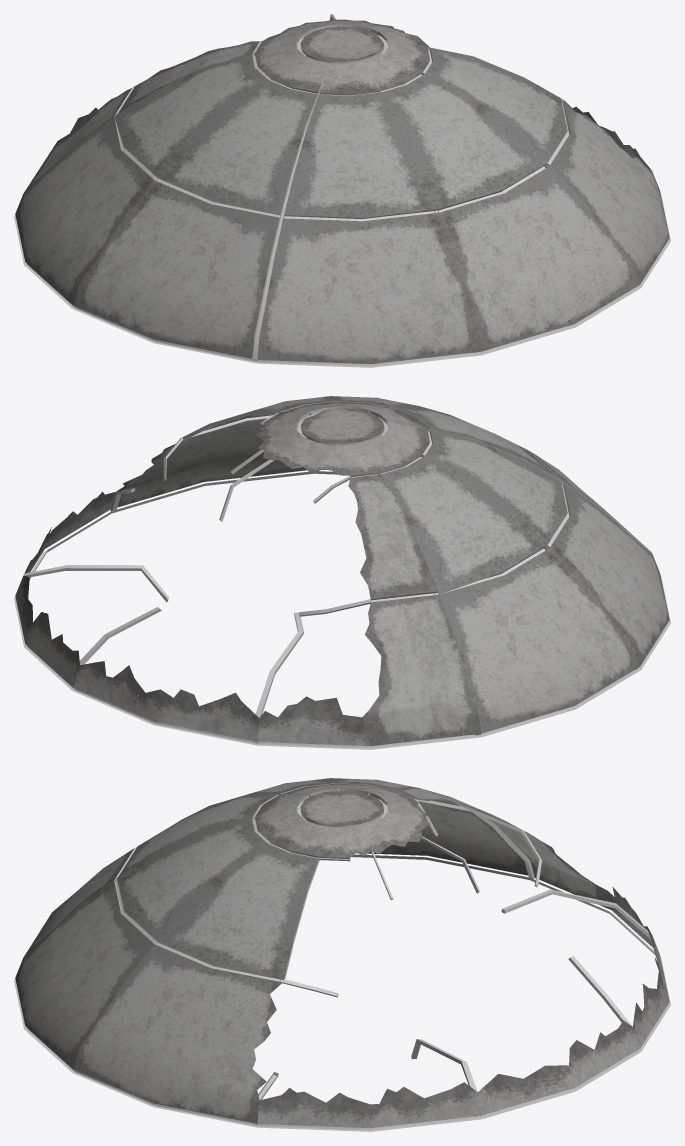
The model's file is #LVL_Entracehall-kuppel.fbx.
3 renders of one model, top to bottom at view 1: azimuth 30°, elevation 25°; view 2: azimuth 150°, elevation 25°; view 3: azimuth 270°, elevation 25°, orthographic.
Visible parts, largest first — view 1: 1gangobj_001; view 2: 1gangobj_001; view 3: 1gangobj_001.
Part boxes in pixels (box(x1,y1,x2,y2)): 1gangobj_001: box(14, 14, 670, 367); 1gangobj_001: box(14, 396, 670, 749); 1gangobj_001: box(14, 778, 670, 1131).
Size of the model in its own units: 22.13 by 6.88 by 22.13.
